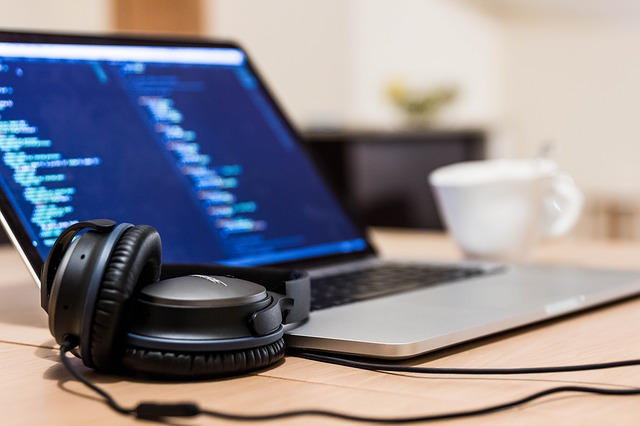headphones: (40, 220, 309, 381)
